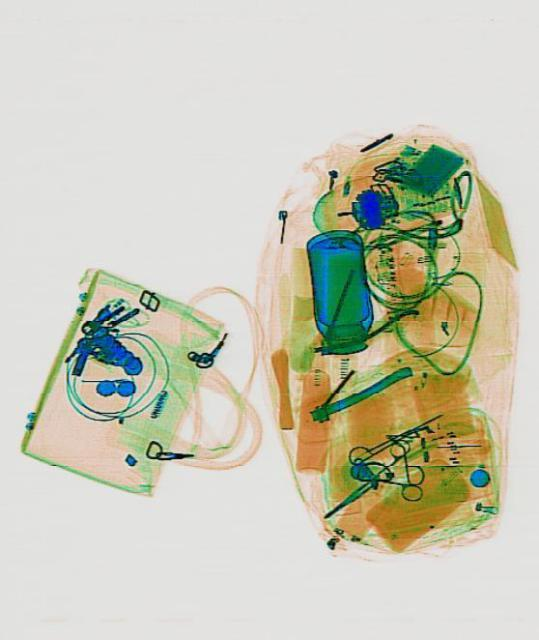Scissors: (307, 428, 429, 540)
